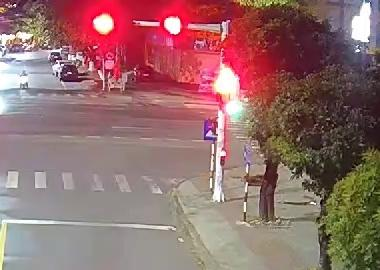red_light: (213, 56, 242, 116), (90, 12, 115, 39), (158, 12, 181, 38)
stop_line: (2, 216, 181, 232)
